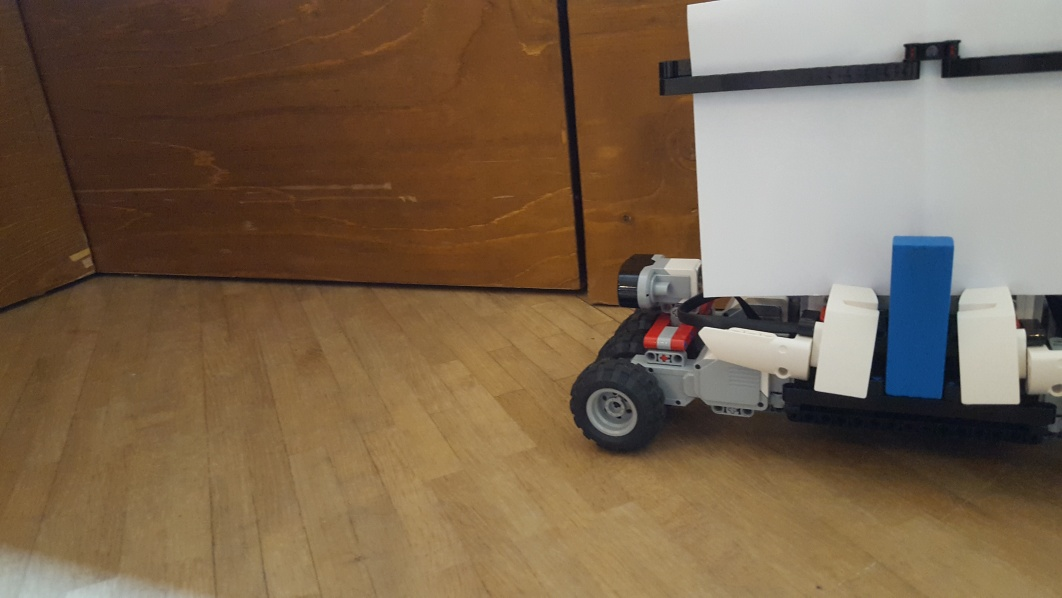car: (568, 1, 1062, 456)
